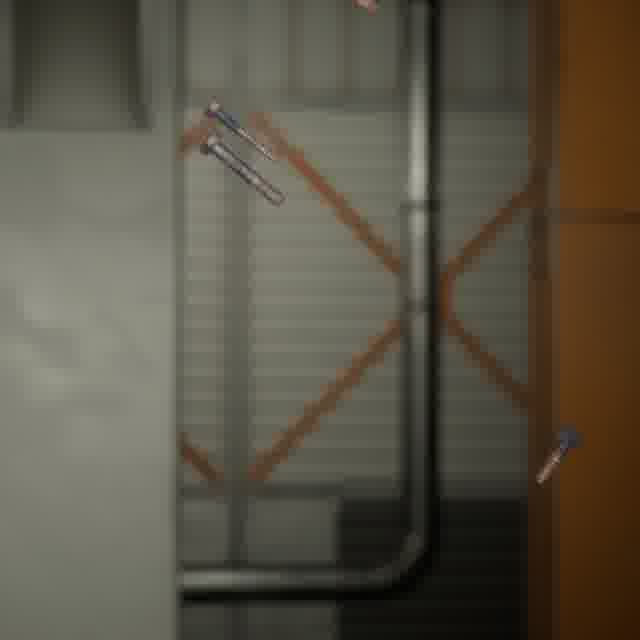bolt: (194, 126, 289, 210), (199, 95, 283, 168), (531, 420, 587, 488)
